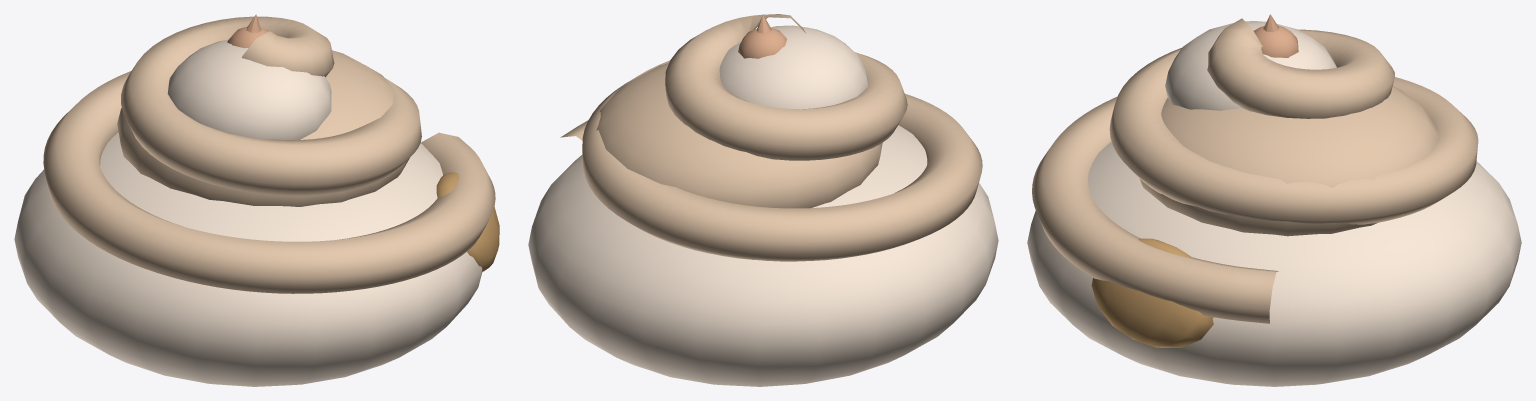
File: shell.glb
The picture shows the model from 3 angles, left to right: view 1: azimuth 30°, elevation 25°; view 2: azimuth 150°, elevation 25°; view 3: azimuth 270°, elevation 25°; orthographic projection.
Visible parts, largest first — view 1: shell; view 2: shell; view 3: shell.
Part boxes in pixels (x1,y1,x2,y2): shell: [14, 14, 499, 386]; shell: [528, 14, 998, 386]; shell: [1027, 14, 1521, 386].
Size of the model in its own units: 1.96 by 1.49 by 2.
